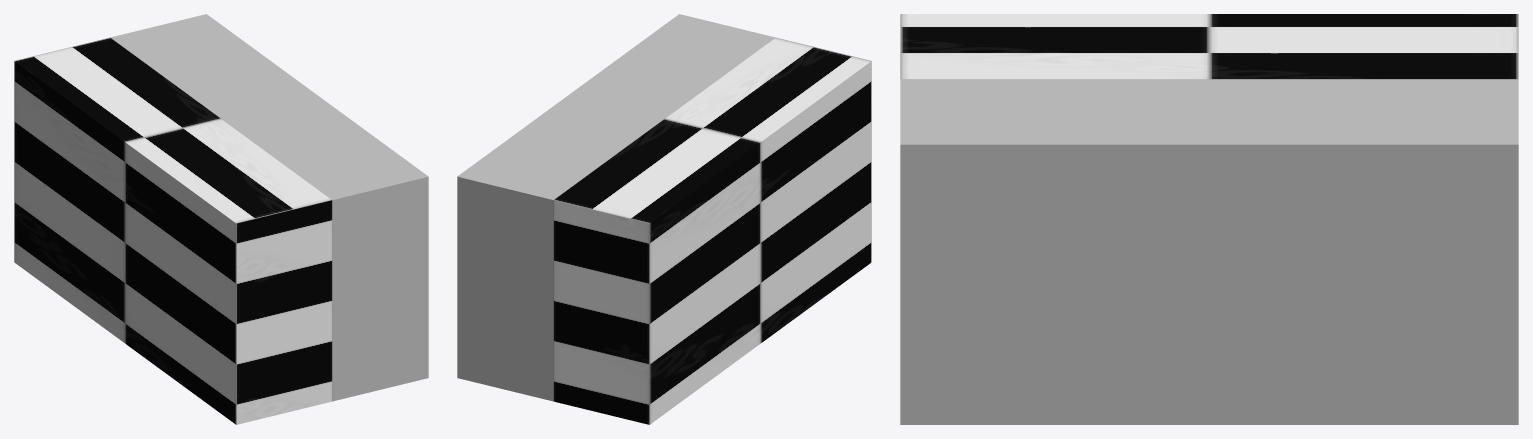
The model's file is FinishLine.fbx.
The picture shows the model from 3 angles, left to right: view 1: azimuth 30°, elevation 25°; view 2: azimuth 150°, elevation 25°; view 3: azimuth 270°, elevation 25°; orthographic projection. The views are drawn at different scales.
Parts seen in each view (by area): view 1: Finish Line; view 2: Finish Line; view 3: Finish Line.
Part boxes in pixels (box(x1,y1,x2,y2)): Finish Line: box(14, 14, 428, 424); Finish Line: box(457, 14, 871, 424); Finish Line: box(900, 14, 1518, 424).
Bounding box in the file's own units: 2 × 2 × 4.
